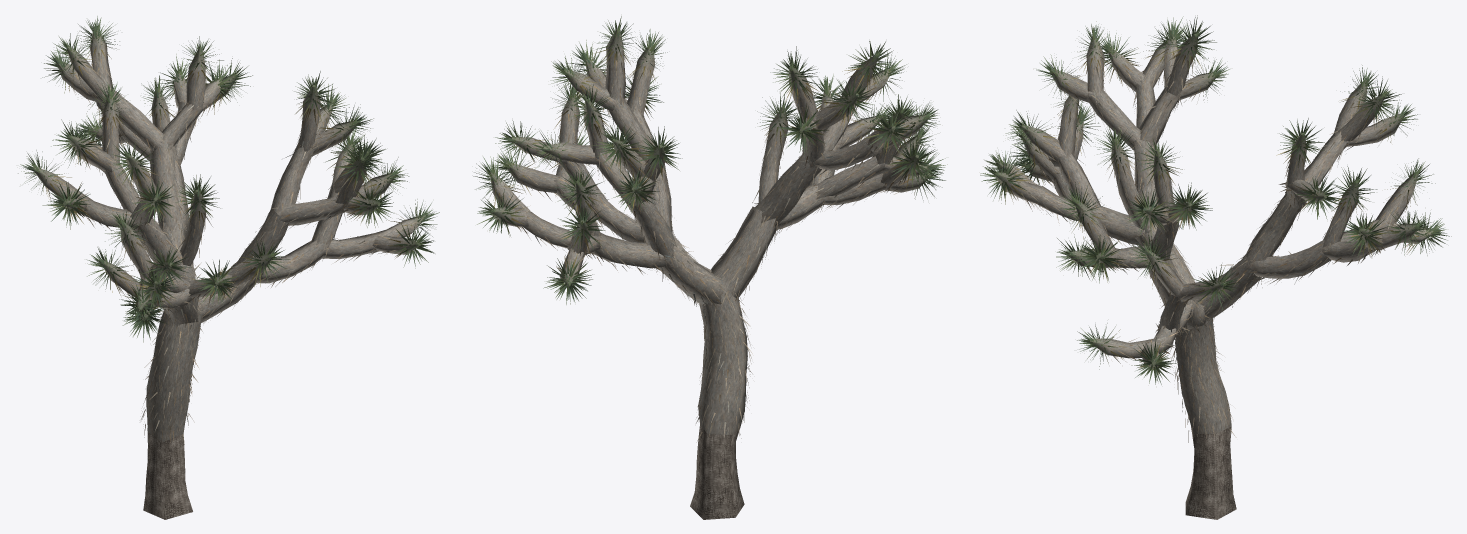
Rendered from joshua_d_lod1.glb.
3 views of the same model, side by side, from view 1: azimuth 30°, elevation 25°; view 2: azimuth 150°, elevation 25°; view 3: azimuth 270°, elevation 25° (orthographic). The views are drawn at different scales.
Visible parts, largest first — view 1: joshua_d_lod1; view 2: joshua_d_lod1; view 3: joshua_d_lod1.
Boxes of the visible parts, box(x1,y1,x2,y2) form: joshua_d_lod1: box(18, 16, 439, 519); joshua_d_lod1: box(473, 16, 947, 519); joshua_d_lod1: box(980, 15, 1451, 519).
Size of the model in its own units: 8.55 by 8.91 by 8.35.
Materials: 3 (3 with a texture image).
